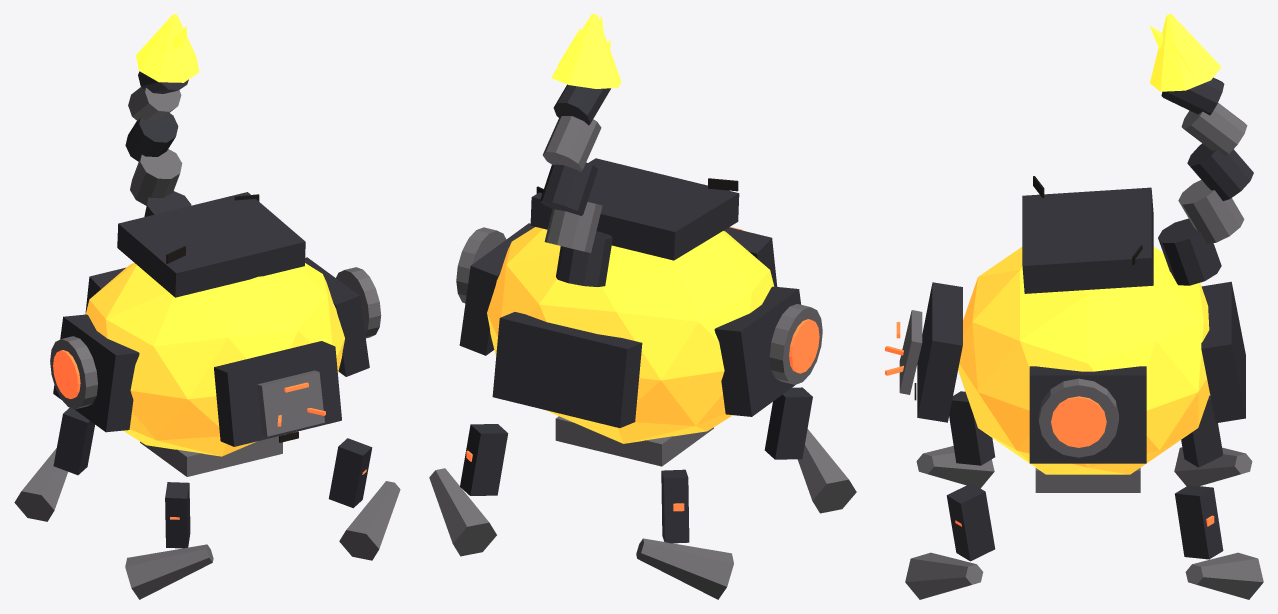
Rendered from plasma_bomber_v1.glb.
3 renders of one model, left to right at view 1: azimuth 30°, elevation 25°; view 2: azimuth 150°, elevation 25°; view 3: azimuth 270°, elevation 25°, orthographic. The views are drawn at different scales.
Parts seen in each view (by area): view 1: PlasmaCore, BodyShell_Top, BodyShell_Front, BodyShell_Left, WarningTriangle_Plate, Leg_FL_Foot, FuseFlame_Core, BodyShell_Right, Leg_FR_Foot, BodyShell_Bottom, Leg_FR_Upper, Leg_BL_Foot (+11 smaller); view 2: PlasmaCore, BodyShell_Back, BodyShell_Top, BodyShell_Left, Leg_BL_Foot, BodyShell_Right, FuseFlame_Core, Leg_BR_Foot, BodyShell_Bottom, Leg_BR_Upper, Leg_FL_Upper, Leg_FL_Foot (+10 smaller); view 3: PlasmaCore, BodyShell_Top, BodyShell_Right, BodyShell_Front, BodyShell_Back, FuseFlame_Core, WarningNodeRing_R, FuseTail_Segment_1, Leg_BR_Upper, Leg_FR_Upper, Leg_BR_Foot, Leg_FR_Foot (+11 smaller).
Part boxes in pixels (bbox=[...]): PlasmaCore: bbox=[85, 263, 344, 456]; BodyShell_Top: bbox=[117, 192, 305, 297]; BodyShell_Front: bbox=[214, 341, 341, 446]; BodyShell_Left: bbox=[53, 314, 139, 432]; WarningTriangle_Plate: bbox=[257, 370, 324, 436]; Leg_FL_Foot: bbox=[125, 544, 213, 599]; FuseFlame_Core: bbox=[136, 14, 199, 82]; BodyShell_Right: bbox=[305, 257, 369, 376]; Leg_FR_Foot: bbox=[339, 481, 400, 560]; BodyShell_Bottom: bbox=[140, 436, 282, 476]; Leg_FR_Upper: bbox=[328, 438, 372, 508]; Leg_BL_Foot: bbox=[14, 448, 67, 521]; PlasmaCore: bbox=[487, 227, 774, 443]; BodyShell_Back: bbox=[492, 312, 642, 427]; BodyShell_Top: bbox=[530, 158, 739, 260]; BodyShell_Left: bbox=[714, 286, 800, 416]; Leg_BL_Foot: bbox=[636, 538, 733, 599]; BodyShell_Right: bbox=[459, 223, 534, 355]; FuseFlame_Core: bbox=[551, 14, 621, 88]; Leg_BR_Foot: bbox=[429, 468, 496, 556]; BodyShell_Bottom: bbox=[555, 416, 713, 466]; Leg_BR_Upper: bbox=[460, 424, 508, 495]; Leg_FL_Upper: bbox=[764, 387, 812, 459]; Leg_FL_Foot: bbox=[797, 429, 856, 513]; PlasmaCore: bbox=[958, 246, 1209, 474]; BodyShell_Top: bbox=[1022, 187, 1153, 293]; BodyShell_Right: bbox=[1029, 366, 1146, 463]; BodyShell_Front: bbox=[917, 282, 962, 422]; BodyShell_Back: bbox=[1201, 281, 1245, 423]; FuseFlame_Core: bbox=[1150, 14, 1221, 91]; WarningNodeRing_R: bbox=[1038, 378, 1118, 457]; FuseTail_Segment_1: bbox=[1158, 218, 1221, 285]; Leg_BR_Upper: bbox=[1175, 485, 1223, 559]; Leg_FR_Upper: bbox=[946, 483, 995, 561]; Leg_BR_Foot: bbox=[1185, 552, 1263, 599]; Leg_FR_Foot: bbox=[905, 552, 983, 599].
Size of the model in its own units: 1.25 by 1.93 by 1.23.
